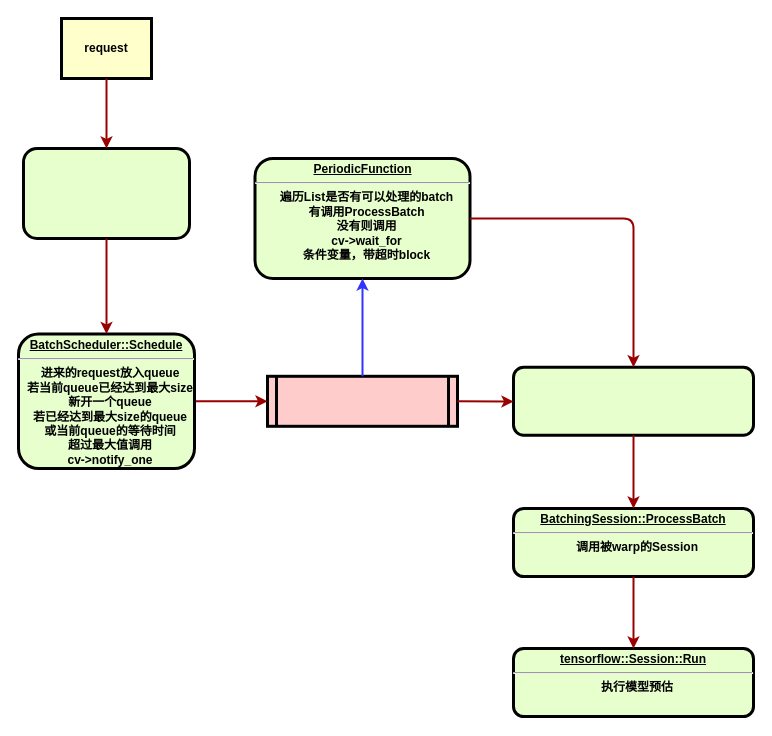
Some shapes in this 772 by 736 pixel diagram are drawn without their labels. Each missing label, with the centre of its shape:
"Batch Queue List" goes at (x=362, y=400).
"BatchingSession::Run 对外体现无差异的 Session::Run 内部会调BatchScheduler" goes at (x=106, y=193).
"Queue<TaskType>::ProcessBatch 调用事先注册好的batch处理回调函数 process_batch_callback" goes at (x=633, y=400).
